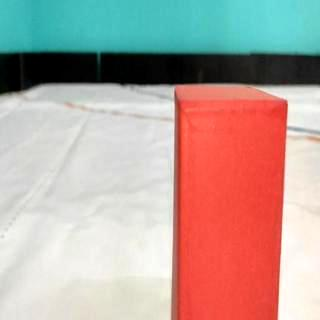redbox: (174, 86, 278, 320)
